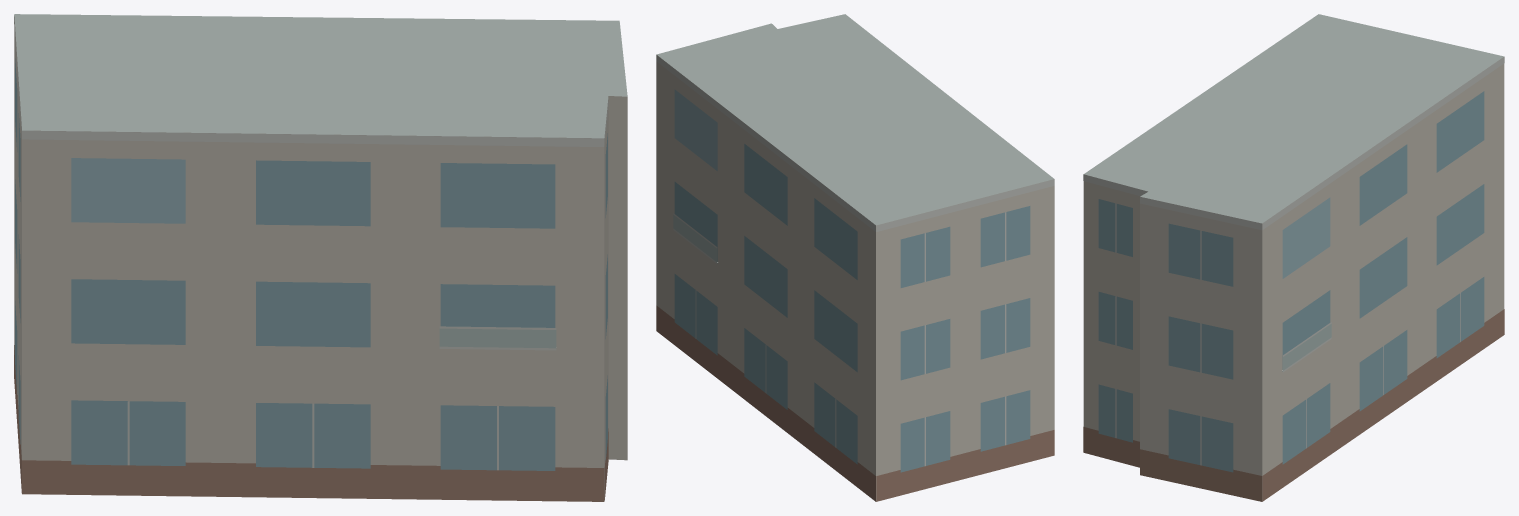
Rendered from survey-upis-32634551.glb.
3 renders of one model, left to right at view 1: azimuth 30°, elevation 25°; view 2: azimuth 150°, elevation 25°; view 3: azimuth 270°, elevation 25°, orthographic. The views are drawn at different scales.
Visible parts, largest first — view 1: survey-upis-32634551.tmp; view 2: survey-upis-32634551.tmp; view 3: survey-upis-32634551.tmp.
Part boxes in pixels (bbox=[...]): survey-upis-32634551.tmp: bbox=[14, 14, 627, 501]; survey-upis-32634551.tmp: bbox=[656, 14, 1054, 501]; survey-upis-32634551.tmp: bbox=[1083, 14, 1504, 501].
Size of the model in its own units: 16.15 by 10 by 13.71.
